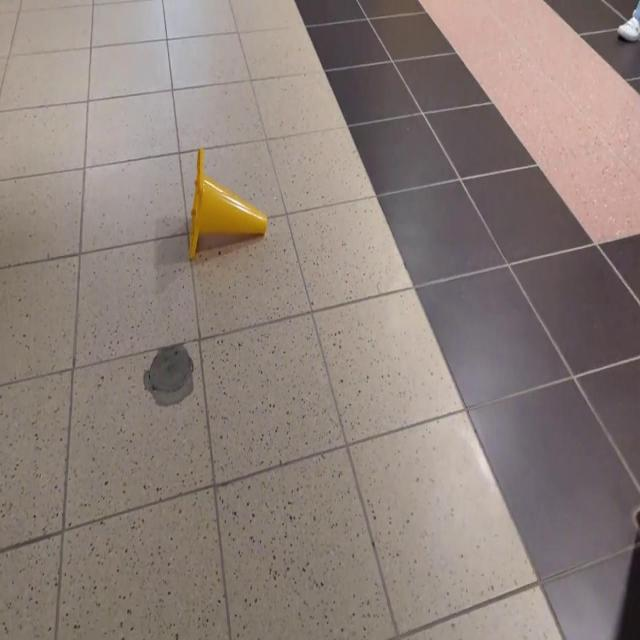frc_cone: (188, 146, 268, 266)
